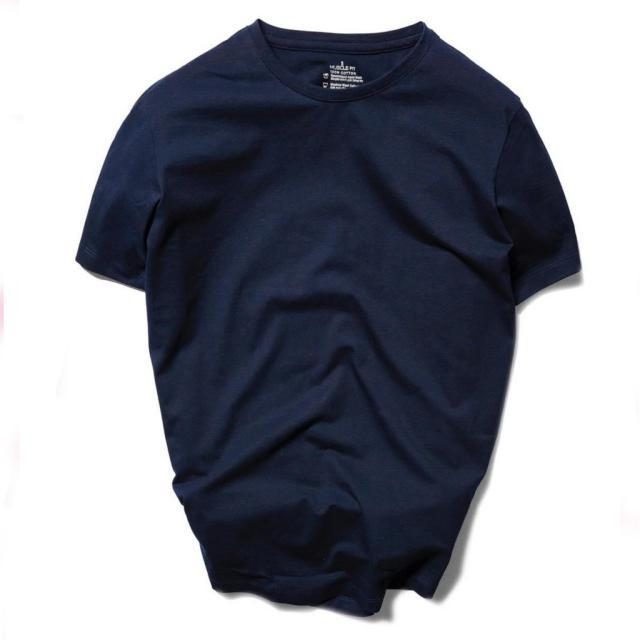Shirt: (66, 18, 586, 628)
